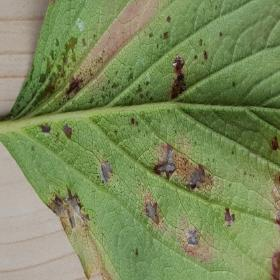Angular Leafspot: (2, 0, 279, 279)
